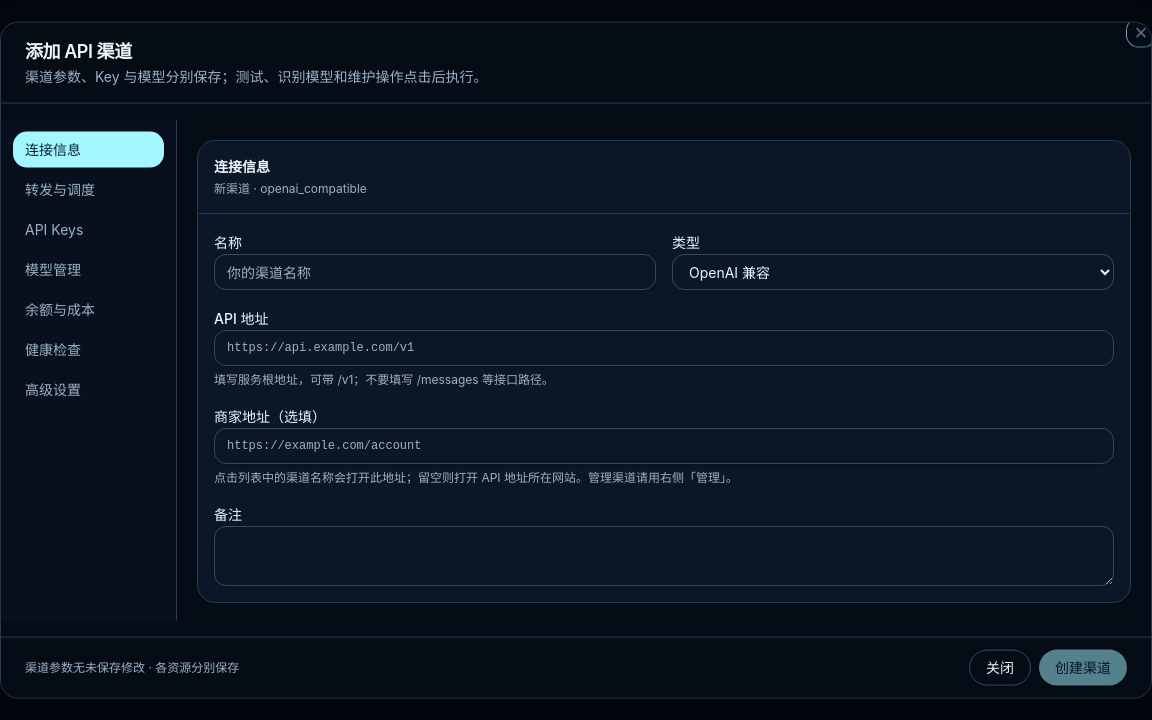
Test: ProviderDialog passthrough › creates with the first Key and continues in model configuration
The image size is (1152, 720).
Type "新渠道" into the field labelled "名称" at (435, 272), box x1=214 y1=254 x2=656 y2=290
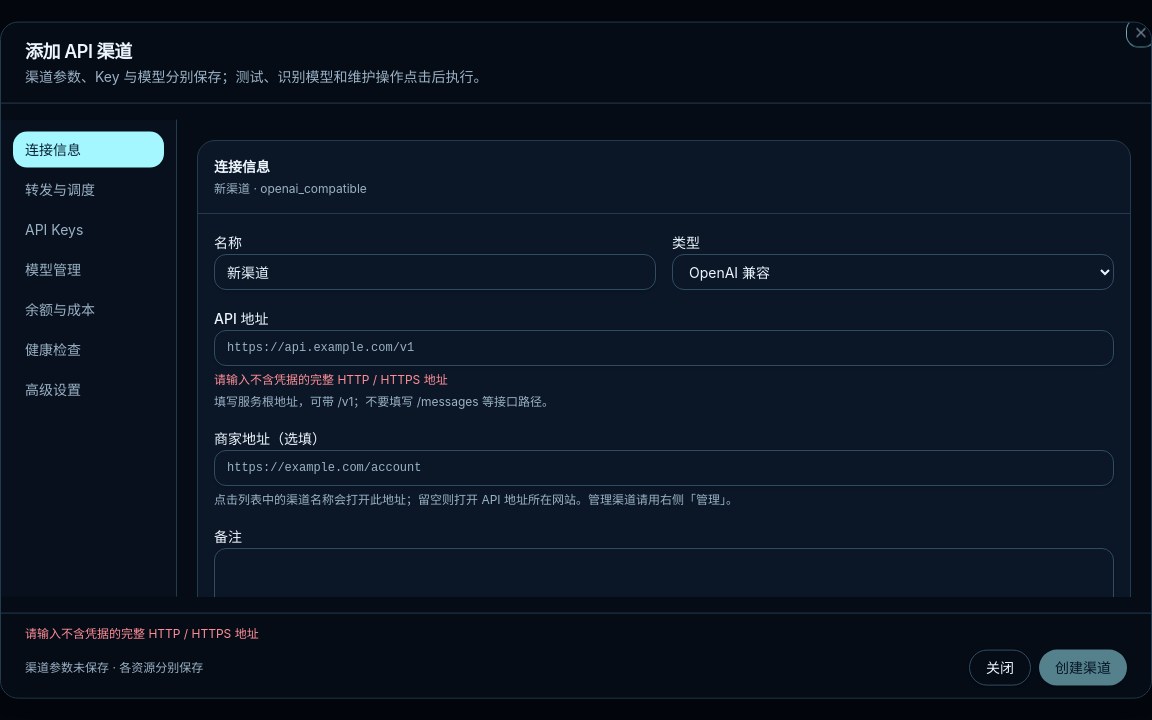
Type "https://new.example" into the field labelled "API 地址" at (664, 348), box x1=214 y1=330 x2=1114 y2=366
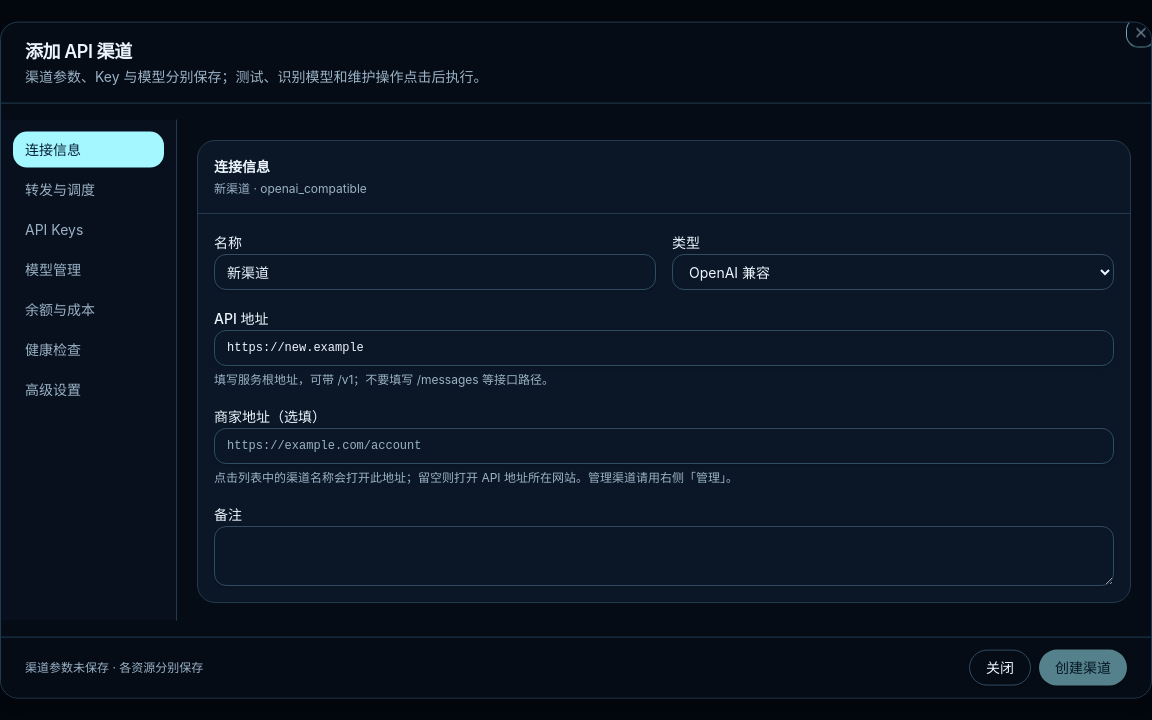
Type "https://merchant.example/credit" into the field labelled "商家地址（选填）" at (664, 446), box x1=214 y1=428 x2=1114 y2=464
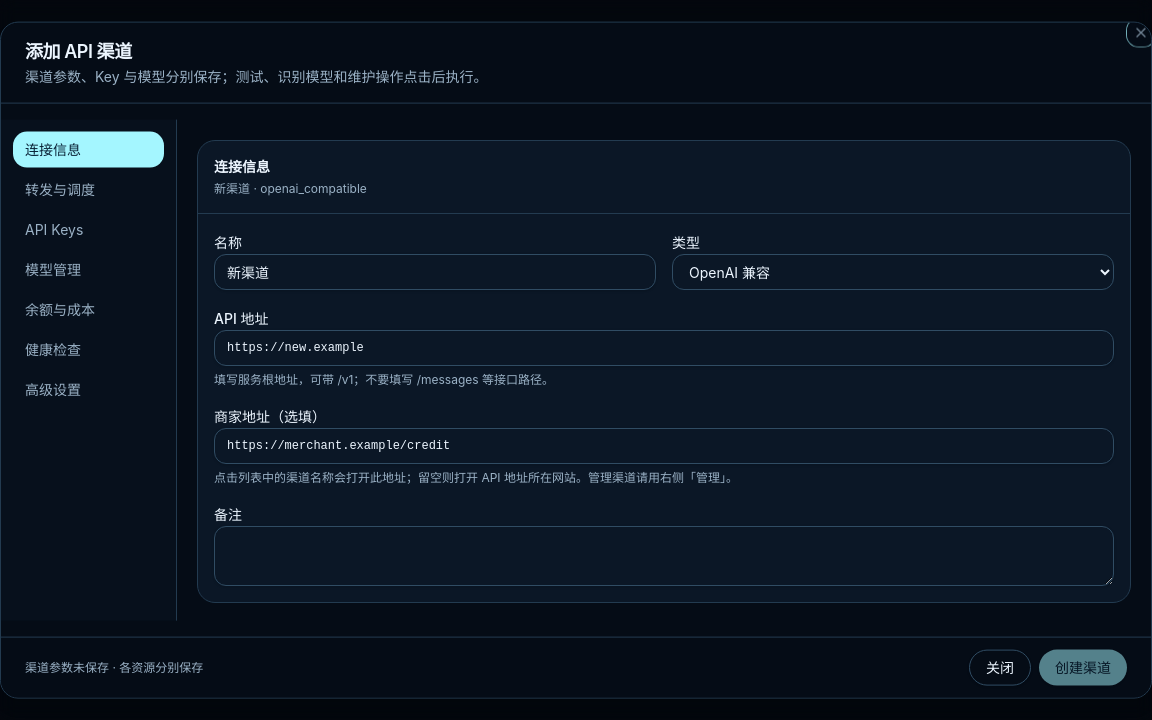
Click the button "API Keys" at (88, 230), box x1=13 y1=212 x2=164 y2=248
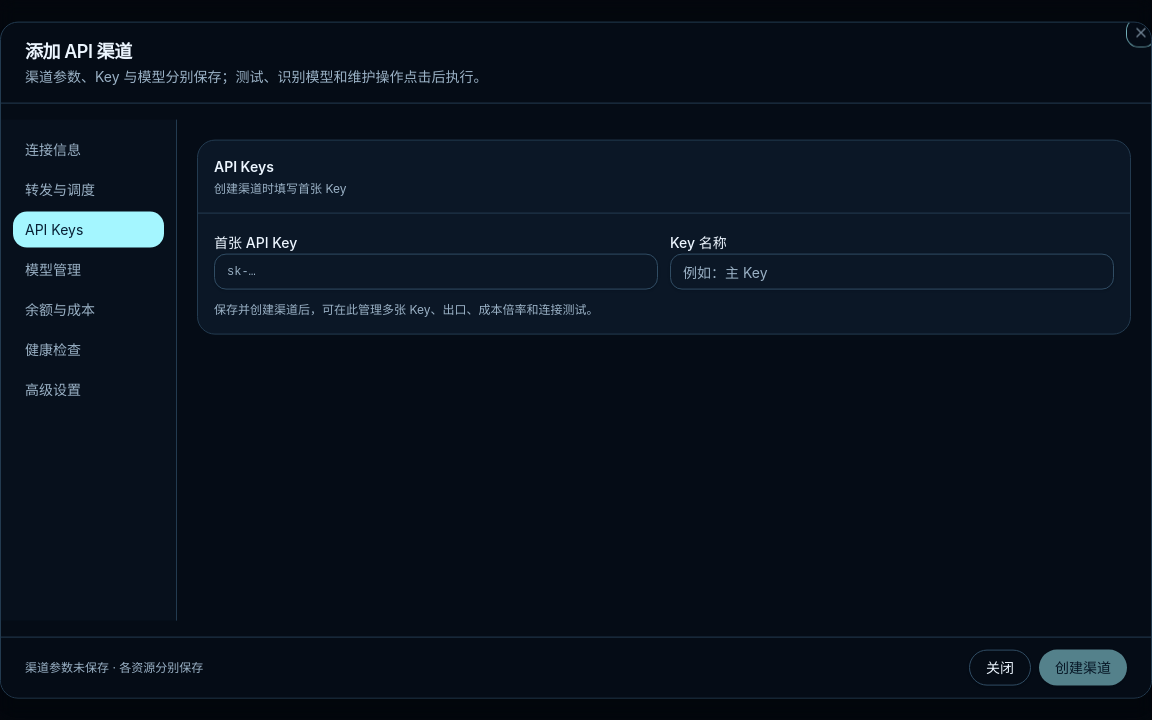
Type "sk-first" into the password field labelled "首张 API Key" at (436, 272), box x1=214 y1=254 x2=658 y2=290
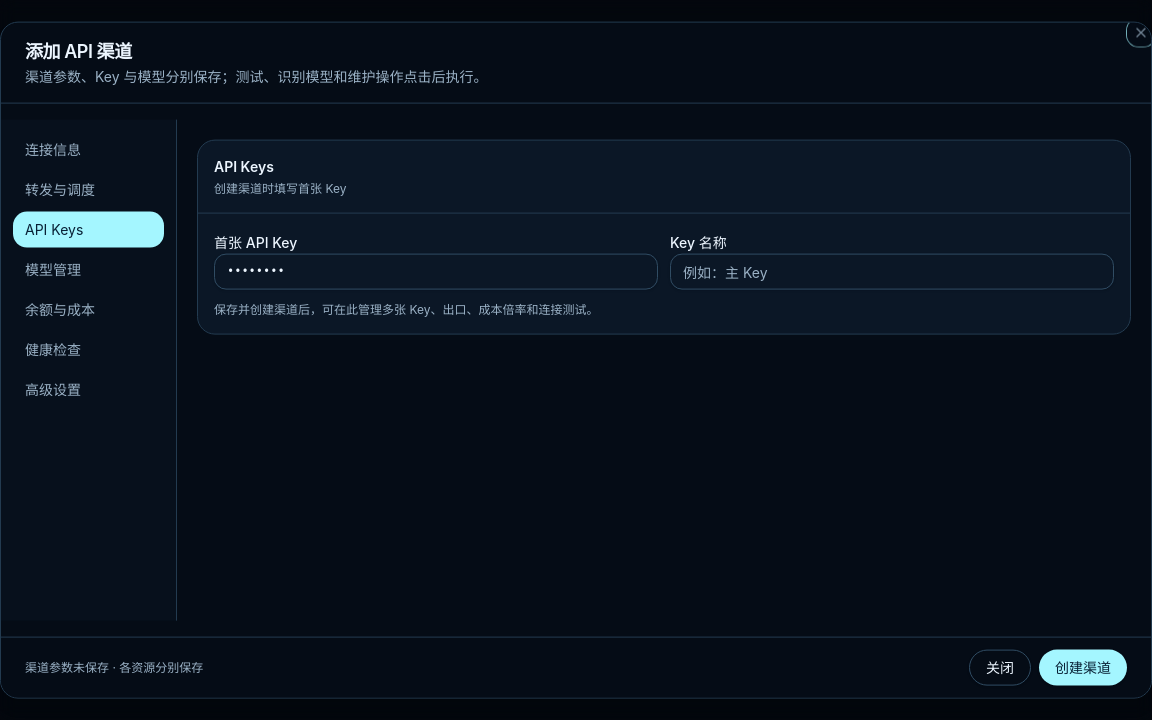
Click the button "创建渠道" at (1083, 667), box x1=1039 y1=649 x2=1127 y2=685
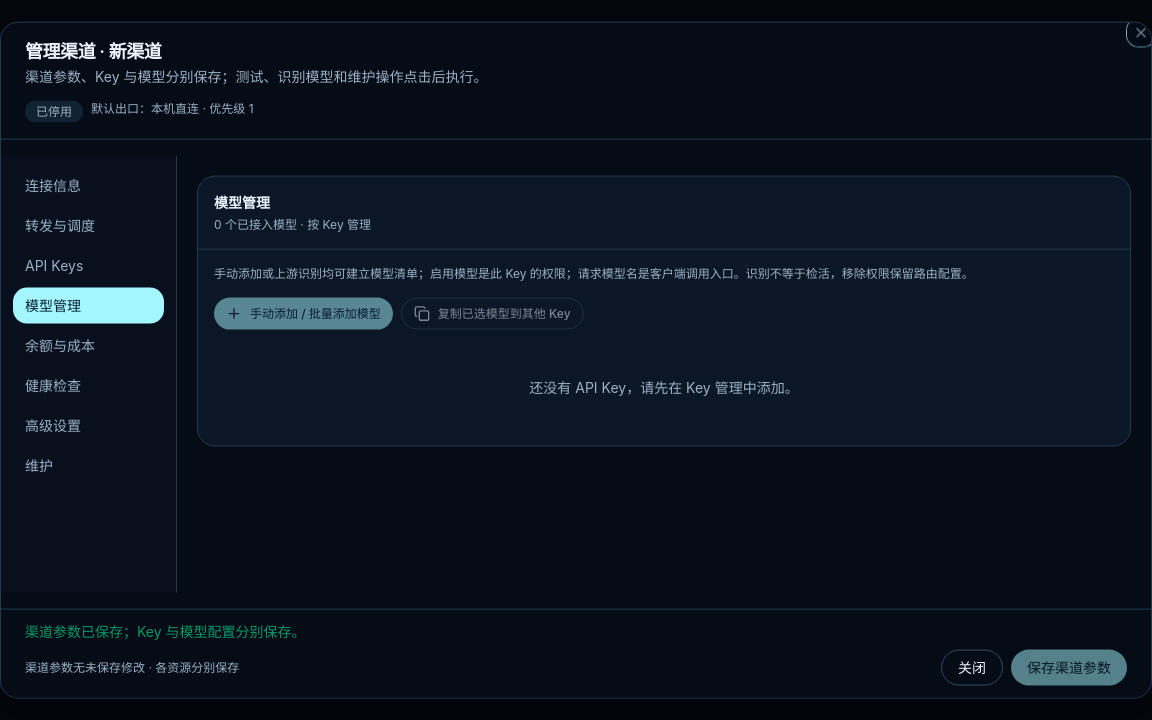
Now the heading "管理渠道 · 新渠道" is shown, box x1=25 y1=41 x2=161 y2=62
Now the button "手动添加 / 批量添加模型" is shown, box x1=214 y1=298 x2=393 y2=330
